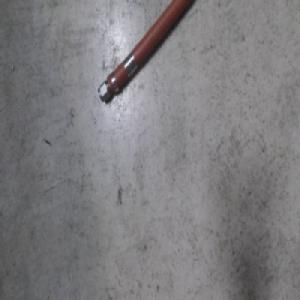Hose: (97, 0, 196, 104)
